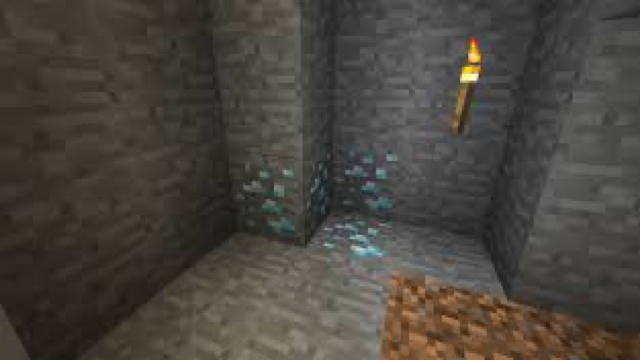diamond: (224, 148, 399, 268)
